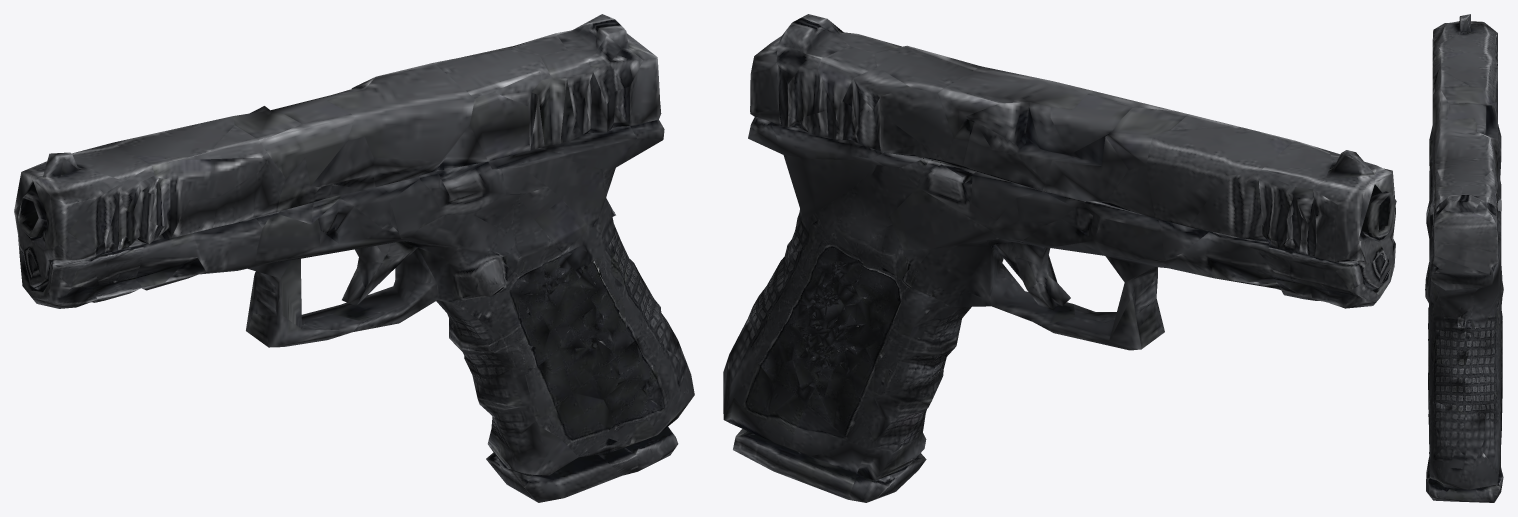
File: pistol.glb
3 views of the same model, side by side, from view 1: azimuth 30°, elevation 25°; view 2: azimuth 150°, elevation 25°; view 3: azimuth 270°, elevation 25° (orthographic). The views are drawn at different scales.
Size of the model in its own units: 1.9 by 1.22 by 0.2887.
Materials: 1 (1 with a texture image).
